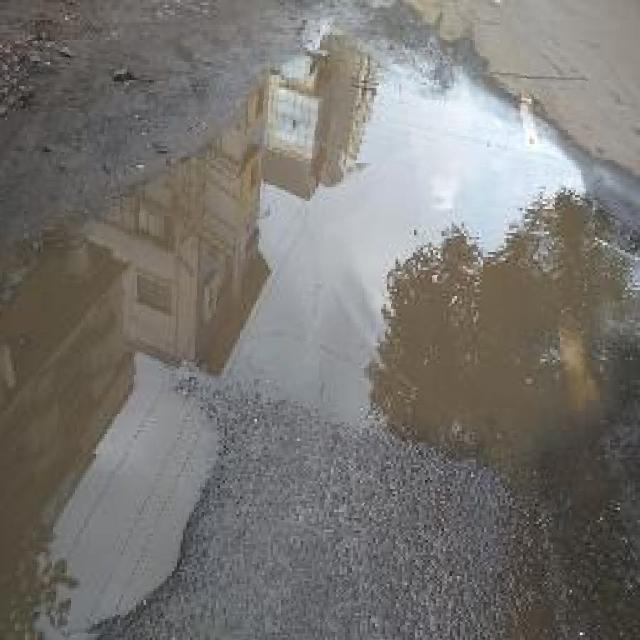puddle: (1, 45, 594, 640)
